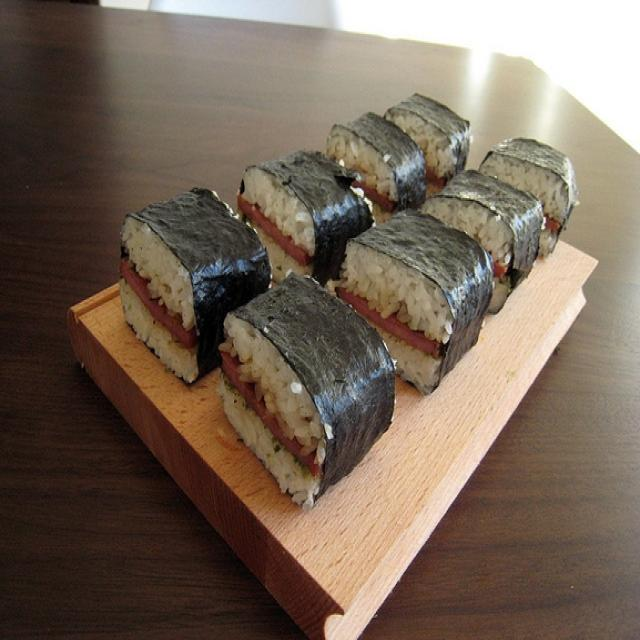寿司卷物: (88, 50, 588, 495)
